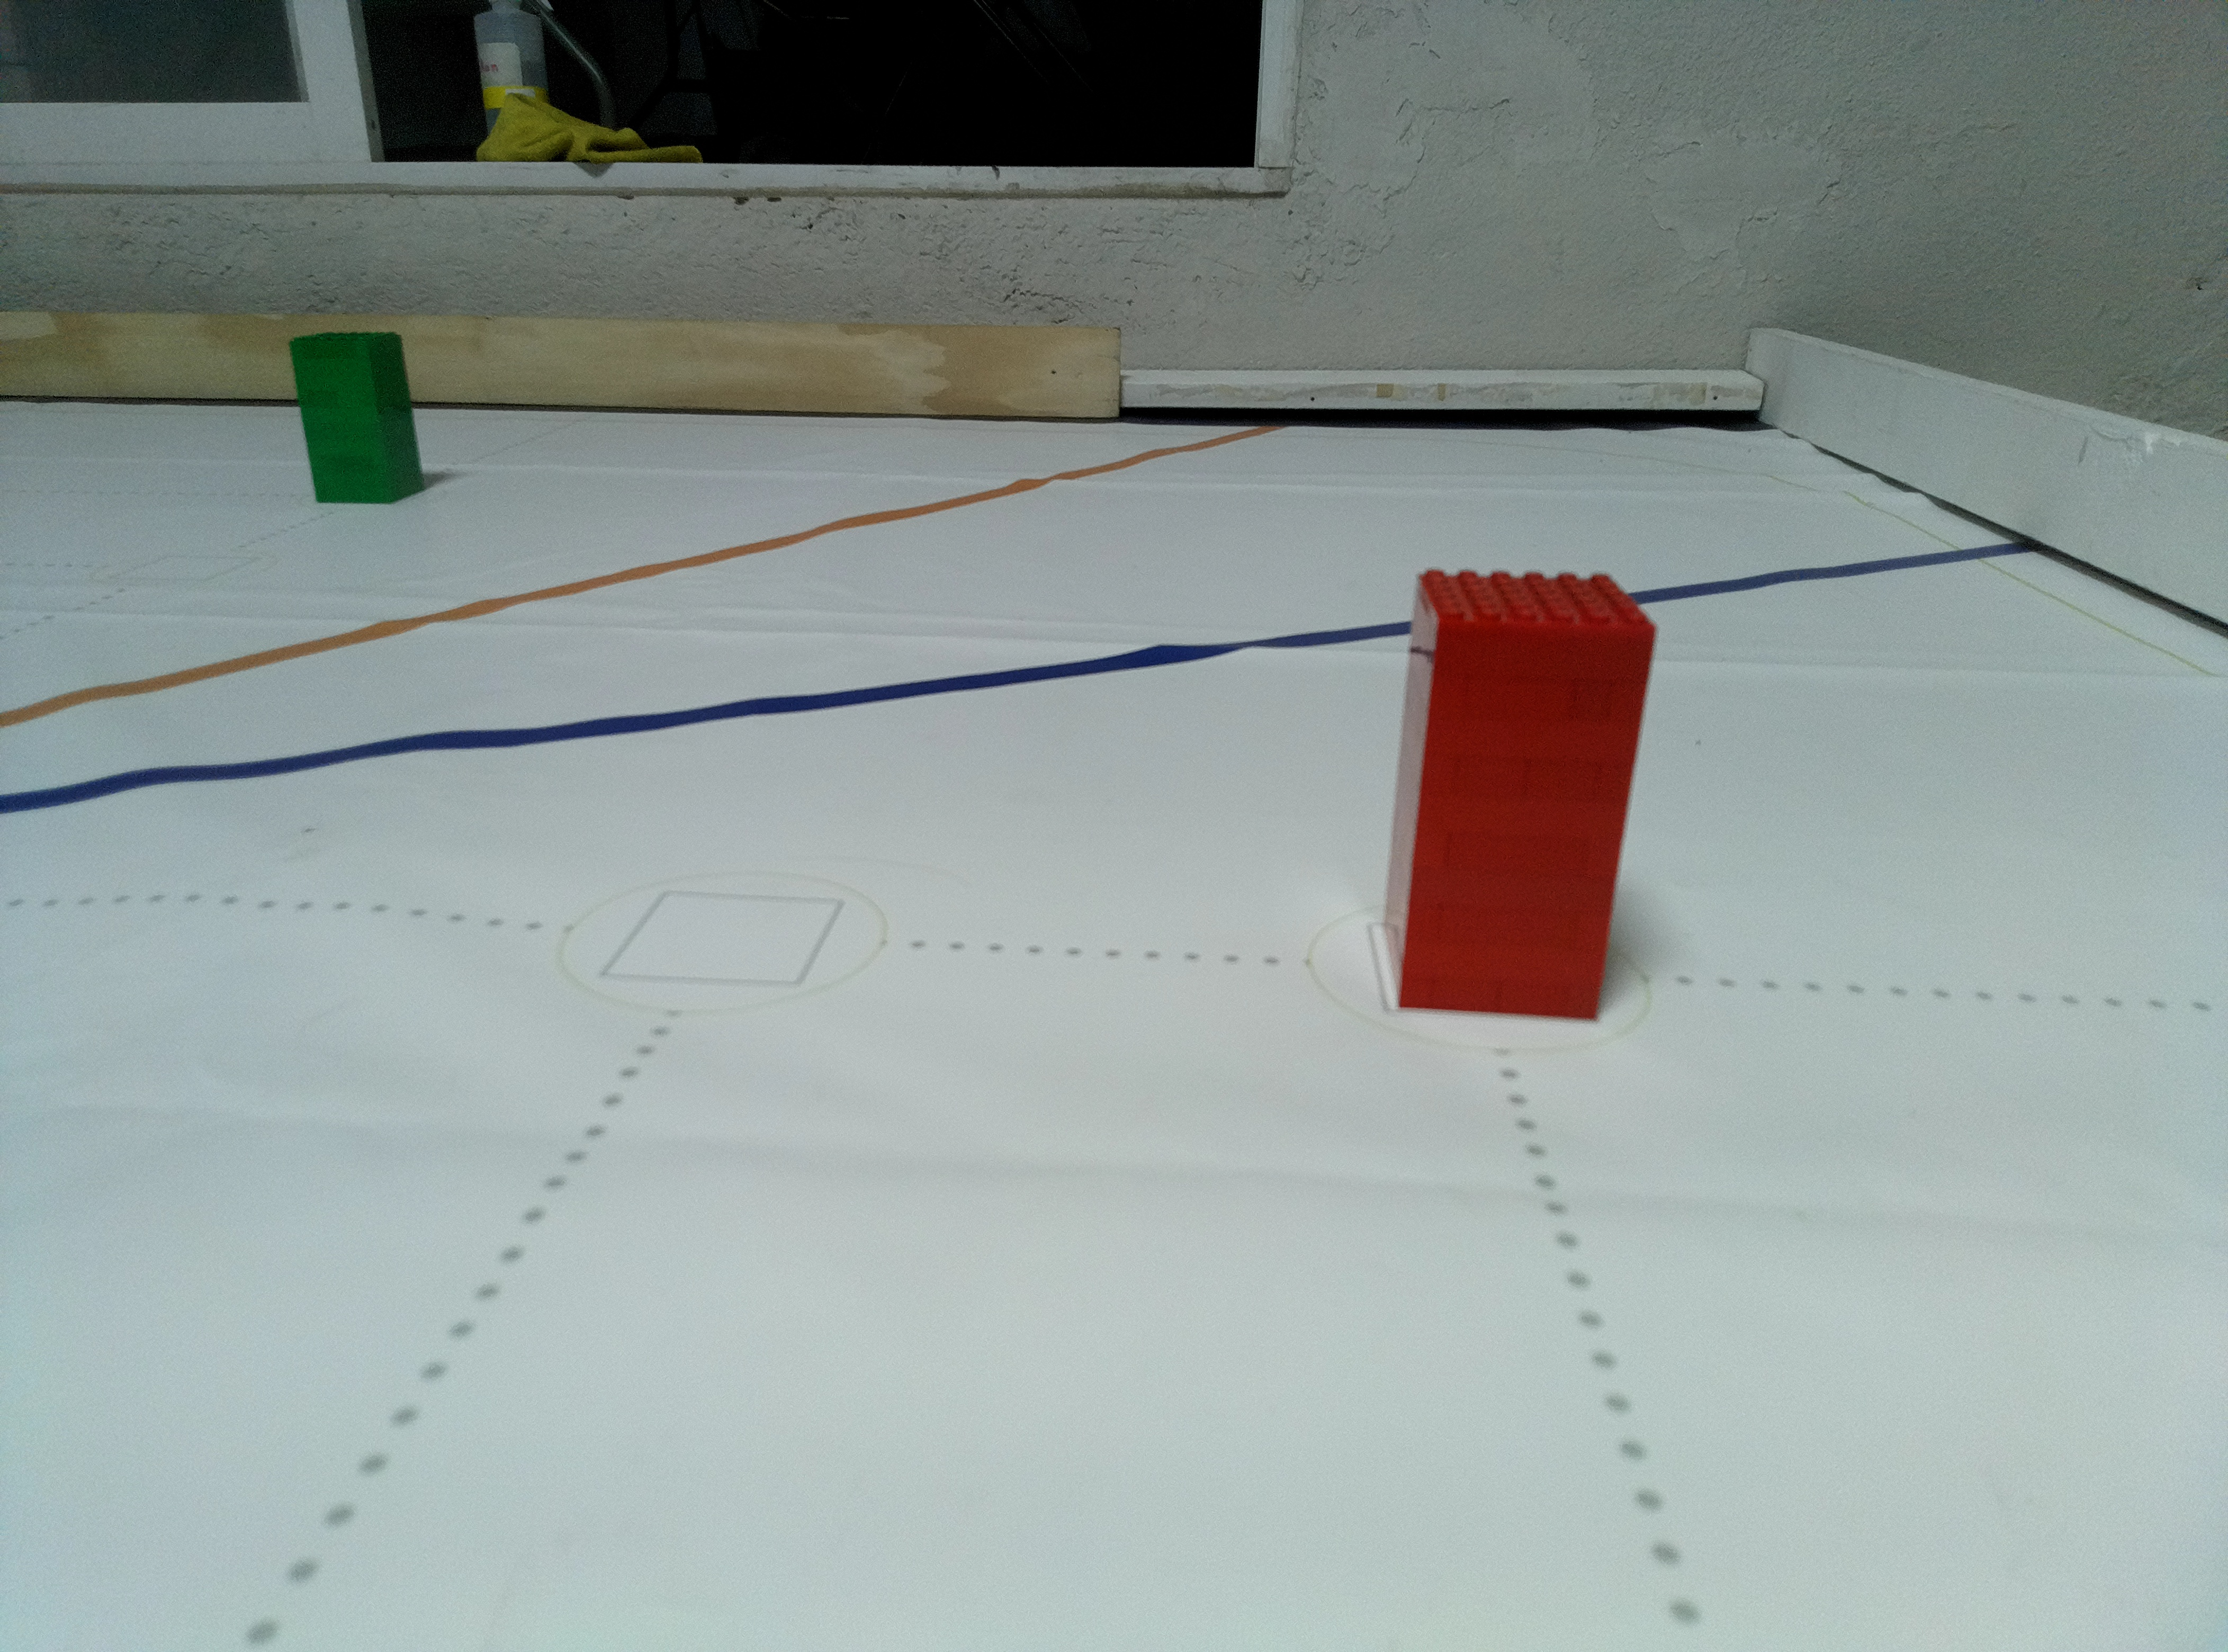greenbox: (286, 328, 427, 508)
redbox: (1379, 562, 1659, 1024)
